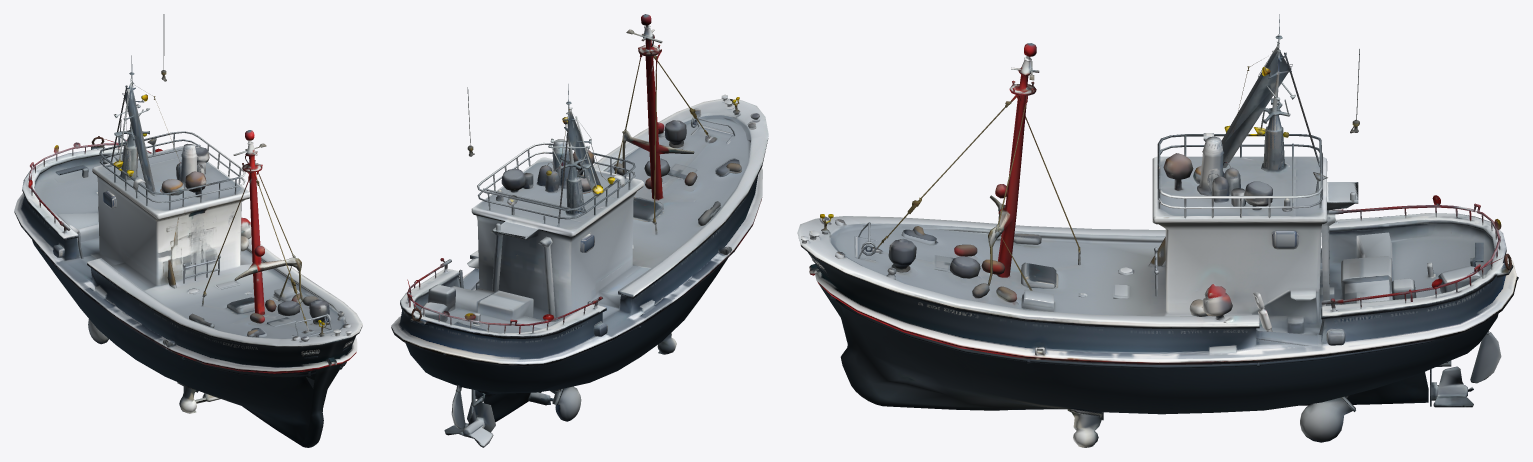
File: barco_pesquero_3d.fbx
3 views of the same model, side by side, from view 1: azimuth 30°, elevation 25°; view 2: azimuth 150°, elevation 25°; view 3: azimuth 270°, elevation 25° (orthographic). The views are drawn at different scales.
Parts seen in each view (by area): view 1: tripo_91e1eda2_3d57_4443_90a4_9be80c4a1ed6; view 2: tripo_91e1eda2_3d57_4443_90a4_9be80c4a1ed6; view 3: tripo_91e1eda2_3d57_4443_90a4_9be80c4a1ed6.
Part boxes in pixels (x1,y1,x2,y2): tripo_91e1eda2_3d57_4443_90a4_9be80c4a1ed6: (14, 14, 362, 447); tripo_91e1eda2_3d57_4443_90a4_9be80c4a1ed6: (391, 14, 768, 447); tripo_91e1eda2_3d57_4443_90a4_9be80c4a1ed6: (797, 14, 1518, 447).
Size of the model in its own units: 0.353 by 0.6079 by 0.9995.
1 material, 1 textured.
